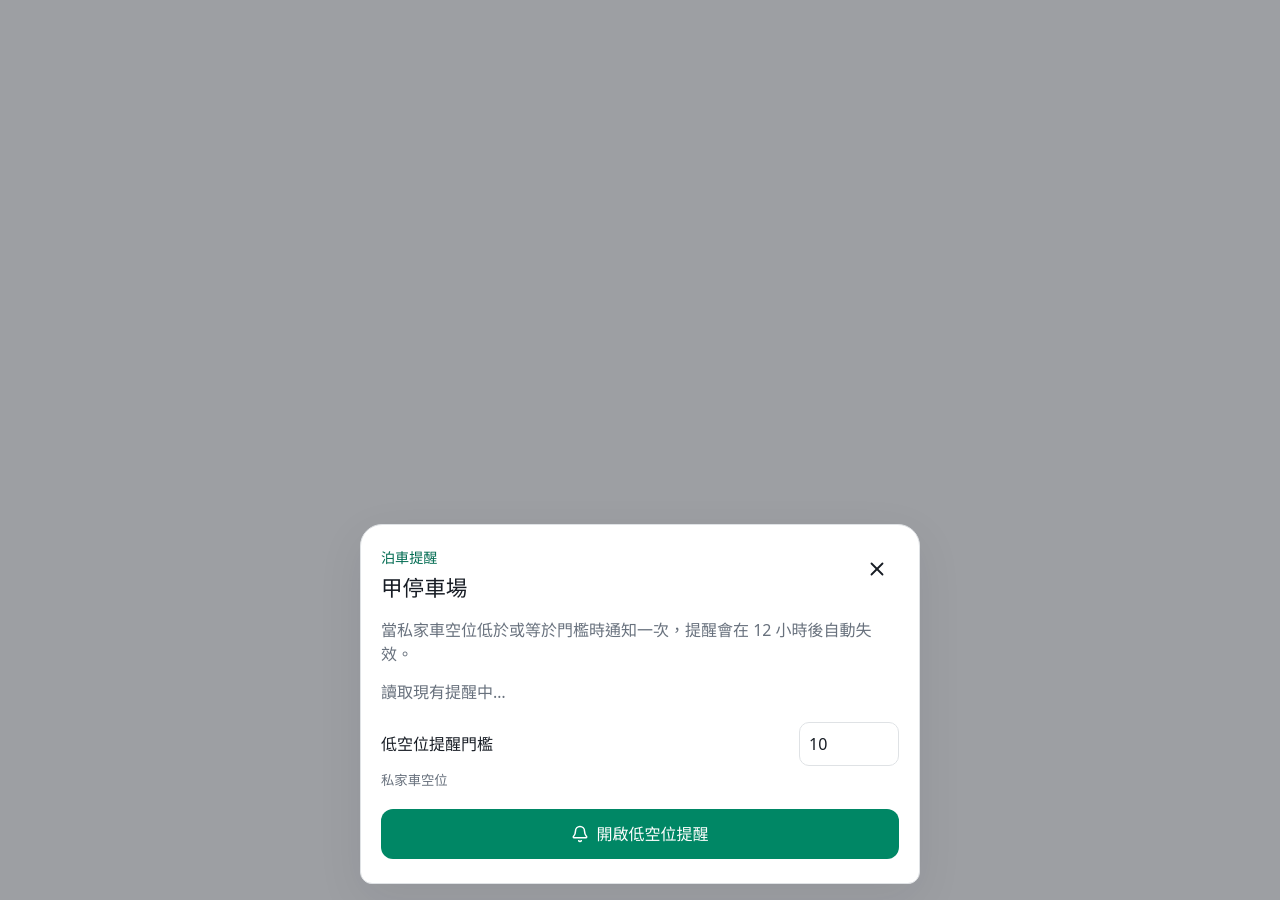
Scenario: ParkingAlertSheet › uses the preference threshold 10 by default and creates one active parking alert
The width and height of the screenshot is (1280, 900).
Check: the number field labelled "低空位提醒門檻" holds "10", box [799, 722, 899, 766]
What coordinates should you click on to do the following:
click the button "開啟低空位提醒"
I would click on:
 (640, 834)
Its box is [381, 809, 899, 859].
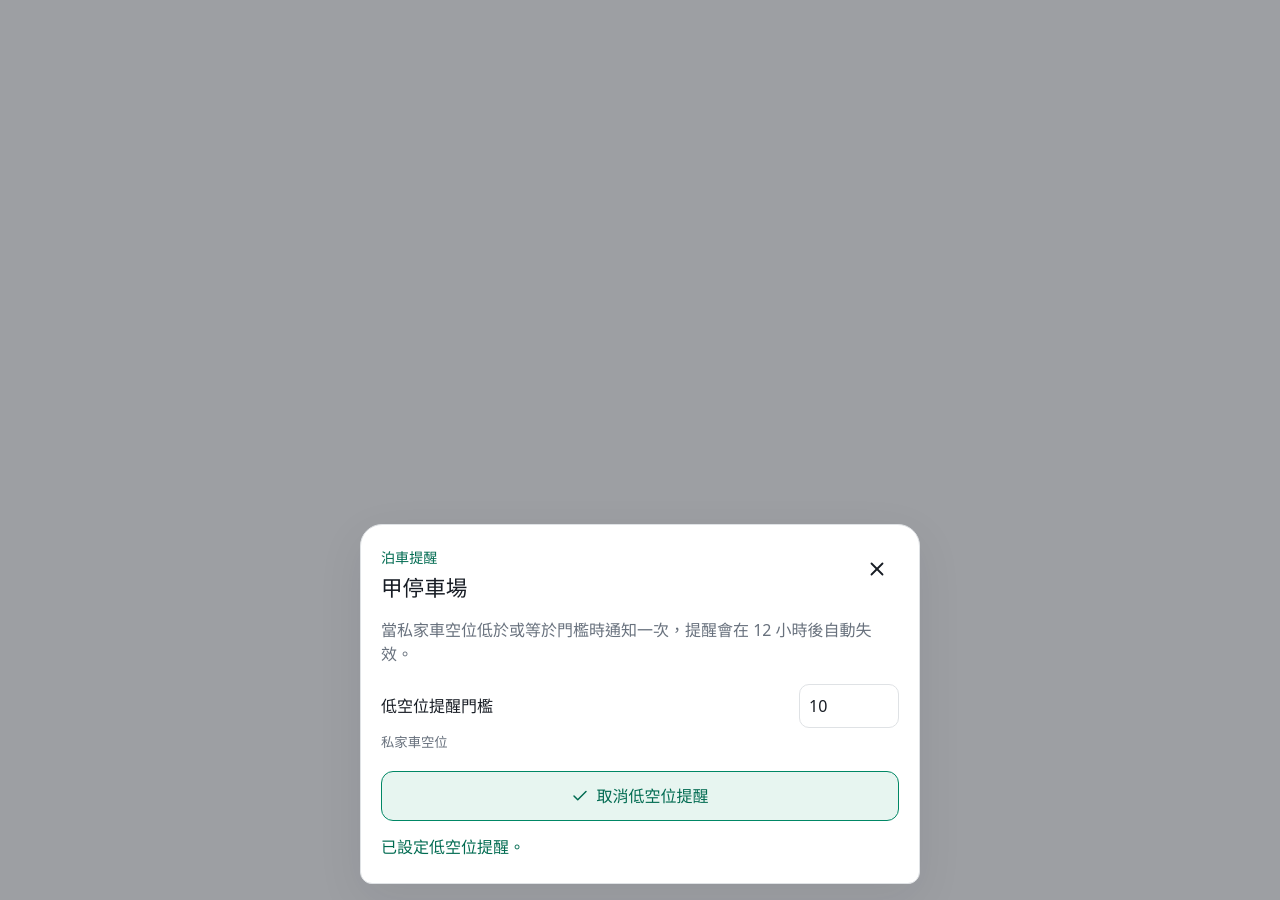
Check: the text "已設定低空位提醒。" is shown, box [381, 836, 525, 858]
